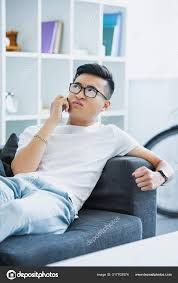no-mask: (62, 60, 121, 126)
